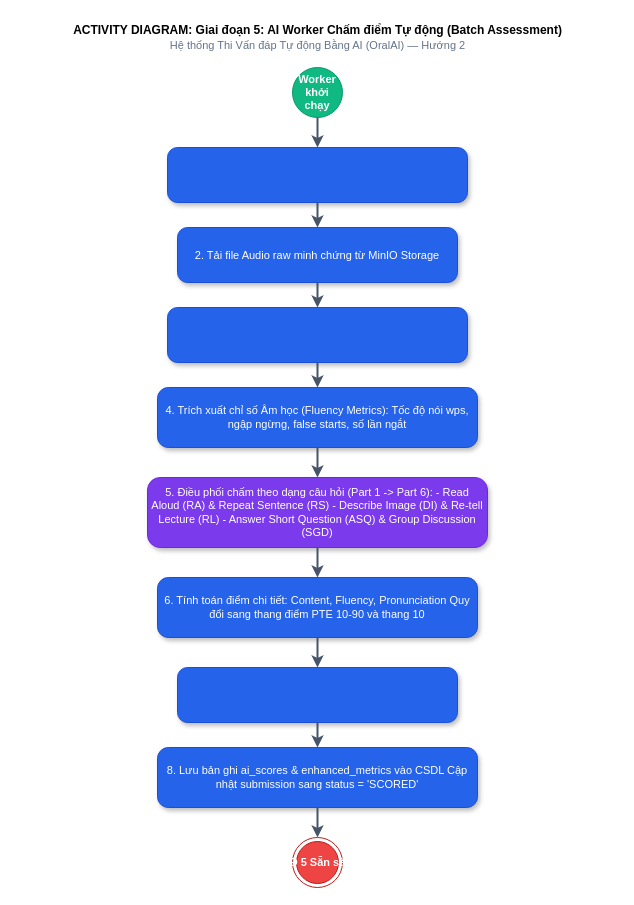
Image size: 634x905. Some labels were removed from this diagram. Here are the shapes that lost their labels. From the top down, the centre of each, then its label:
[318,176]: 1. Celery Worker quét submissions có status = 'UPLOADED'
[318,336]: 3. ASR Whisper: Trích xuất Transcript + Timestamps từng từ
[318,696]: 7. Sinh nhận xét AI Feedback tự động theo Rubric
